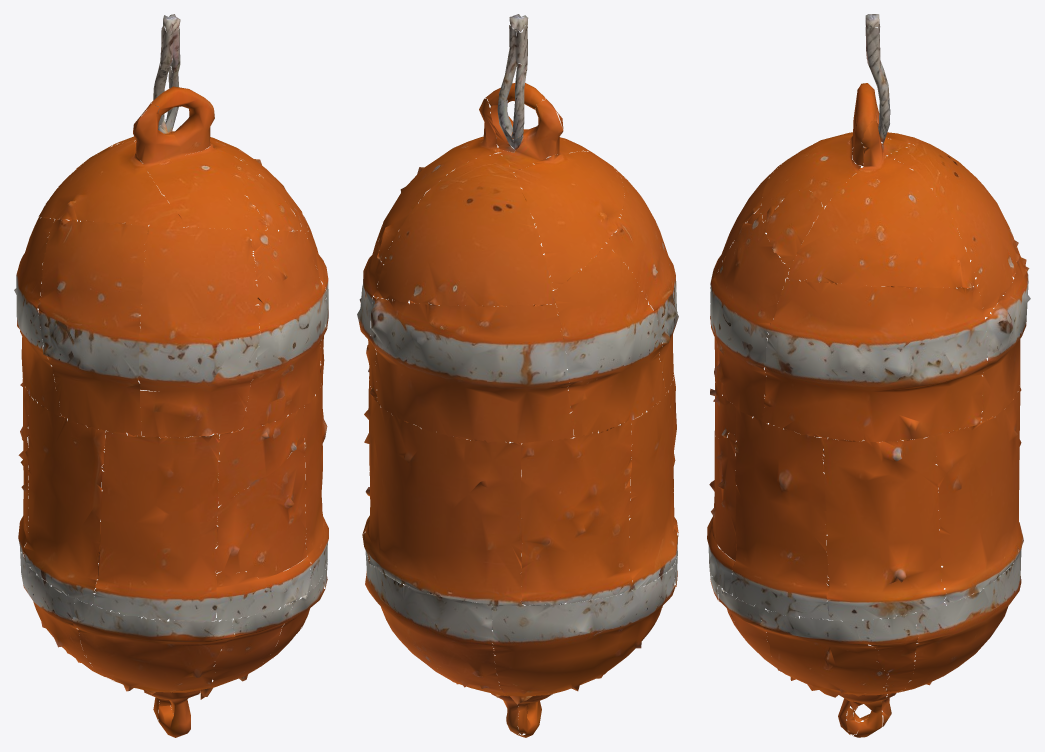
The model's file is float_buoy.glb.
3 views of the same model, side by side, from view 1: azimuth 30°, elevation 25°; view 2: azimuth 150°, elevation 25°; view 3: azimuth 270°, elevation 25° (orthographic).
Parts seen in each view (by area): view 1: tripo_node_b151daf7-db13-4b3d-8502-f353239ddbaf; view 2: tripo_node_b151daf7-db13-4b3d-8502-f353239ddbaf; view 3: tripo_node_b151daf7-db13-4b3d-8502-f353239ddbaf.
Part boxes in pixels (<box>): tripo_node_b151daf7-db13-4b3d-8502-f353239ddbaf: <box>14,14,328,737</box>; tripo_node_b151daf7-db13-4b3d-8502-f353239ddbaf: <box>357,14,678,737</box>; tripo_node_b151daf7-db13-4b3d-8502-f353239ddbaf: <box>707,14,1030,737</box>.
Size of the model in its own units: 0.4066 by 1 by 0.407.
1 material, 1 textured.
